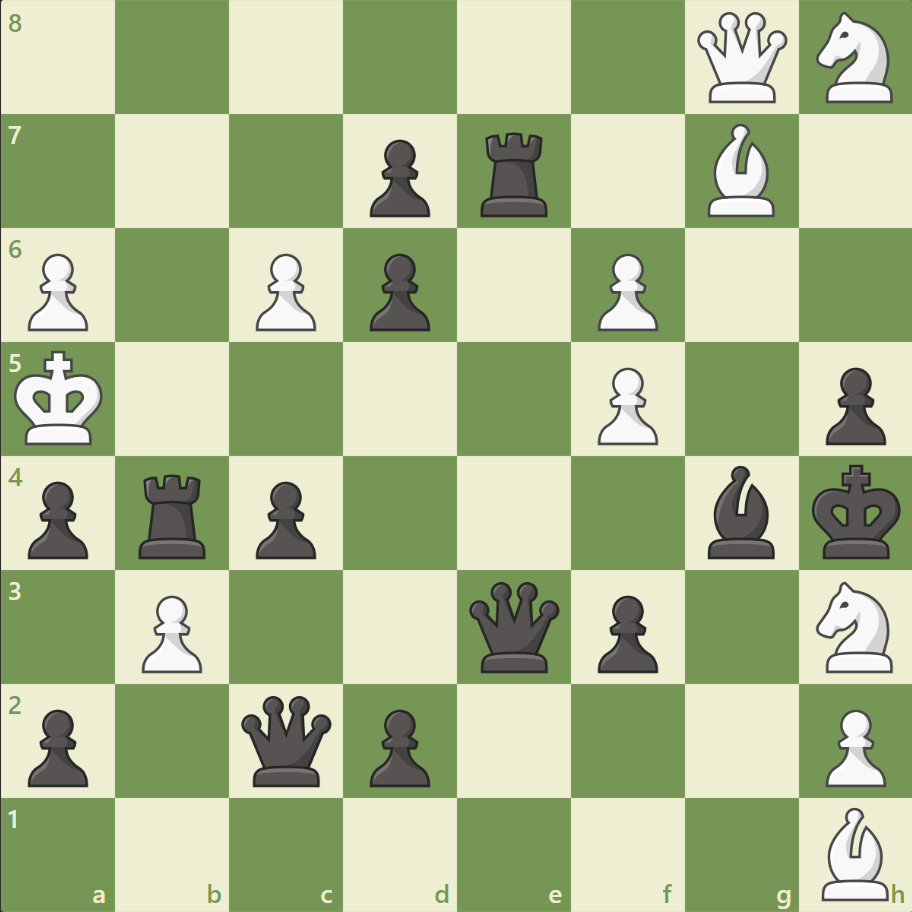B: (812, 801, 896, 904), (698, 120, 782, 222)
K: (11, 344, 111, 452)
N: (806, 7, 903, 110), (806, 575, 903, 677)
P: (20, 246, 95, 337), (247, 246, 322, 337), (133, 586, 208, 677), (588, 246, 662, 337), (588, 359, 662, 450), (815, 700, 889, 791)
Q: (691, 9, 790, 108)
b: (698, 460, 782, 563)
k: (806, 458, 906, 566)
p: (20, 473, 95, 564), (247, 473, 322, 564), (20, 700, 95, 791), (361, 132, 435, 223), (361, 246, 435, 337), (815, 359, 889, 450), (588, 586, 662, 677), (361, 700, 435, 791)
q: (464, 576, 563, 676), (237, 690, 336, 789)
r: (473, 125, 556, 222), (133, 466, 215, 563)
